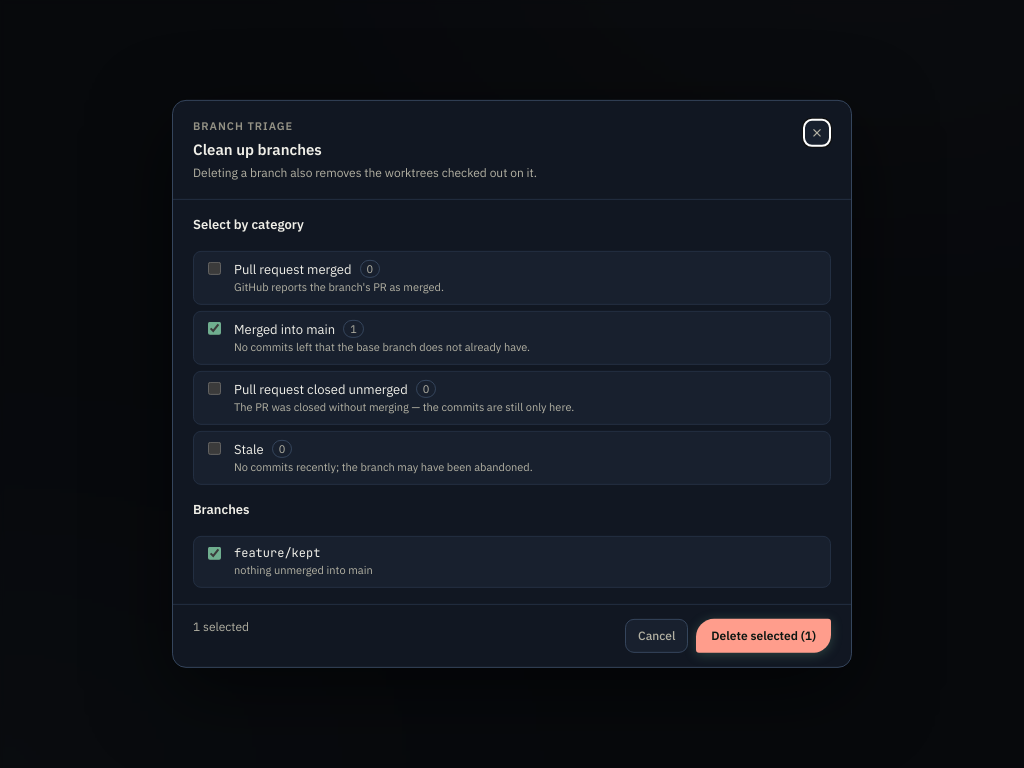
Test: a transport failure keeps the existing red error path
The image size is (1024, 768).
Step 1. Click the button "Delete selected (1)" → coordinates (764, 636), box [696,619,831,653]
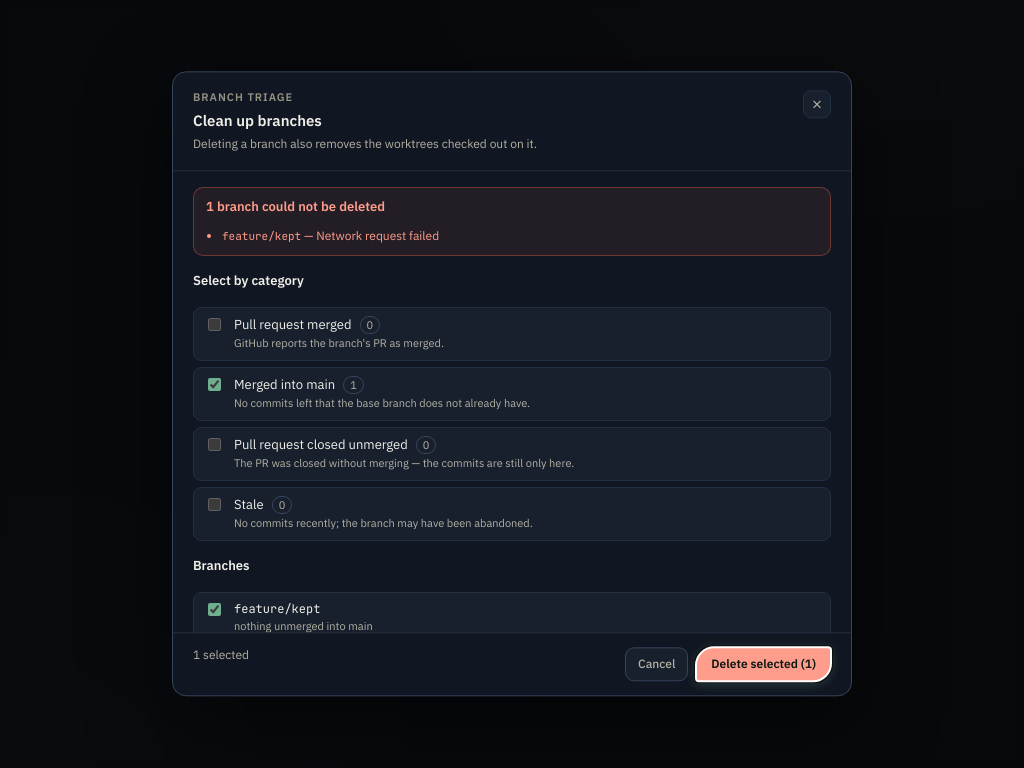
Expected: the element with class "branch-triage-delete-error" is shown, [193,188,831,256]
